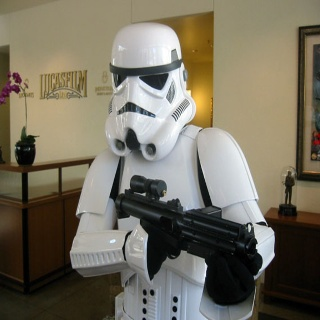rifle: (113, 174, 257, 264)
